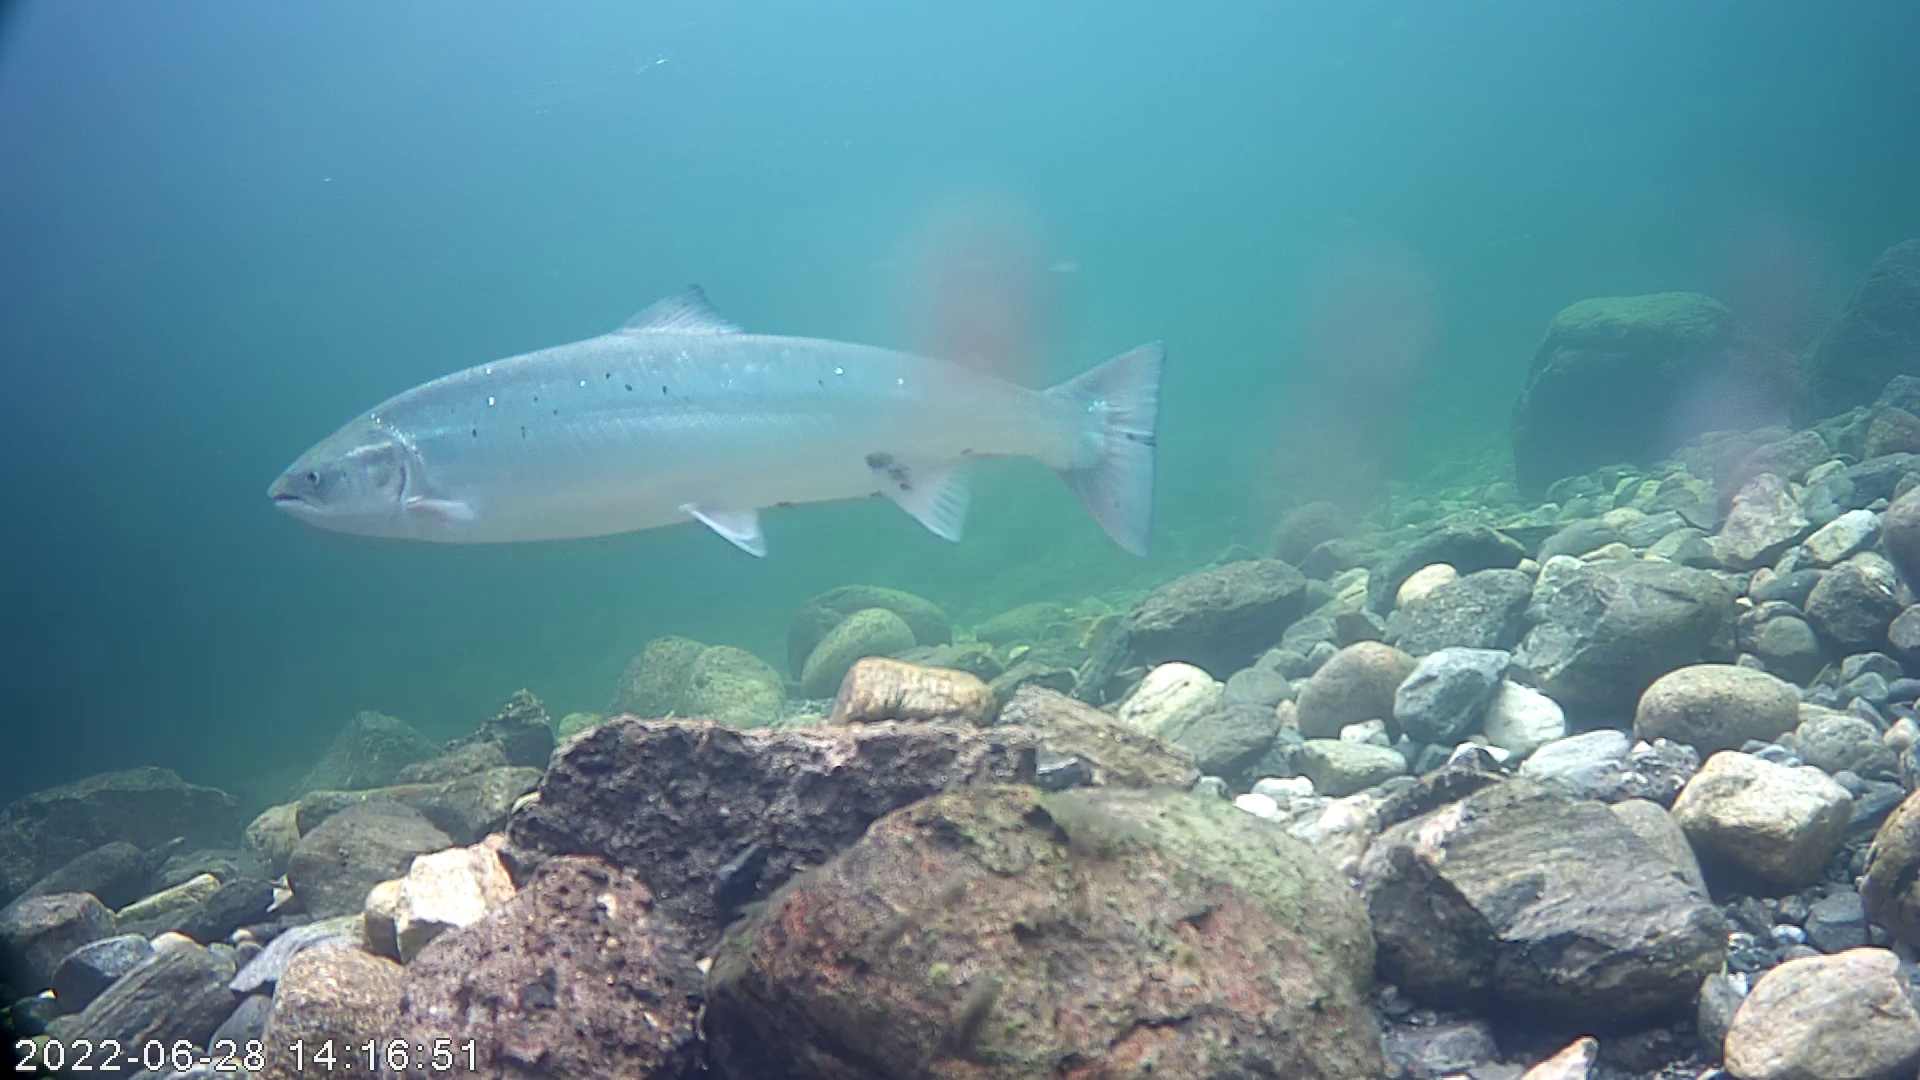salmon: (255, 214, 1174, 618)
